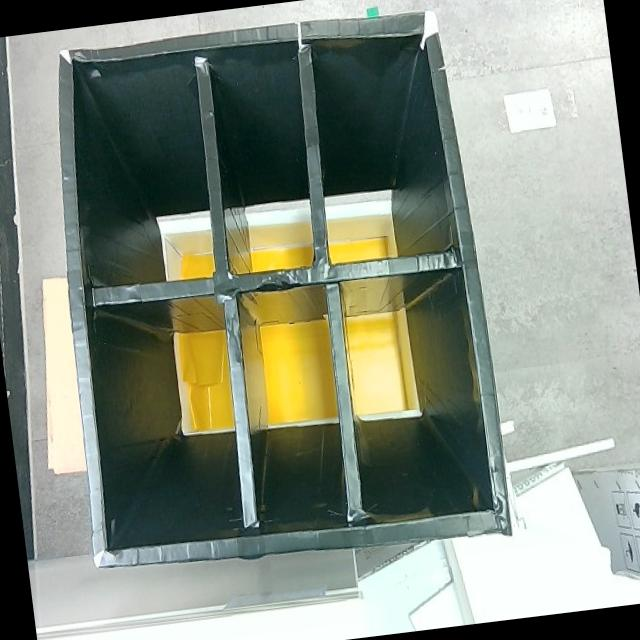box: (32, 2, 514, 584)
